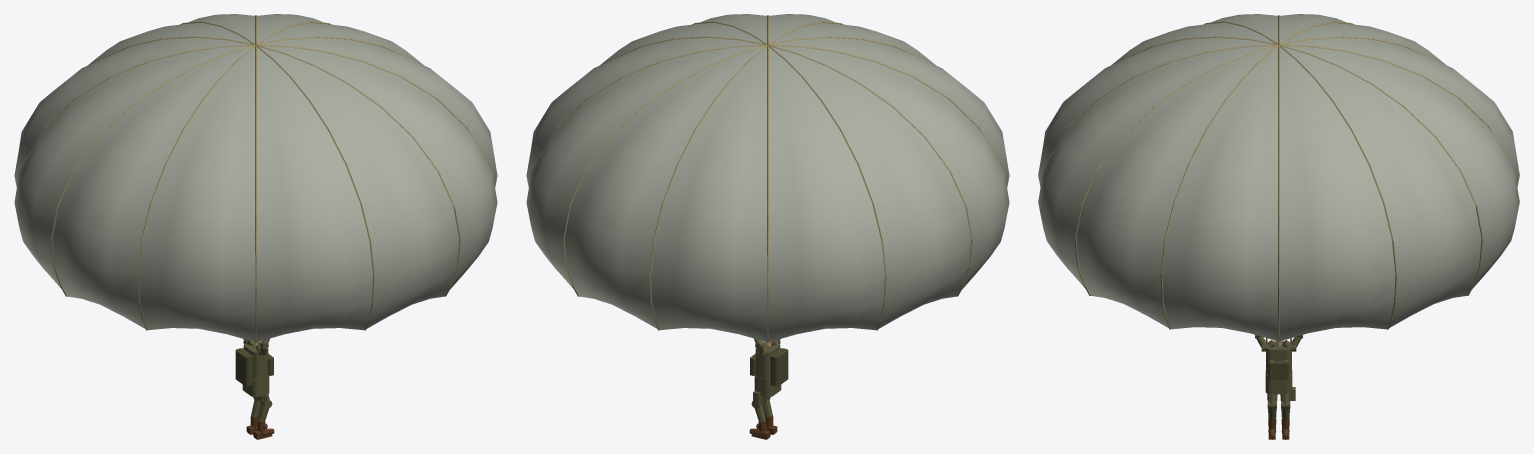
File: parachuting-person-rig.glb
3 views of the same model, side by side, from view 1: azimuth 30°, elevation 25°; view 2: azimuth 150°, elevation 25°; view 3: azimuth 270°, elevation 25° (orthographic).
Visible parts, largest first — view 1: CanopyOpen, CanopyRibs, Person, CanopyClosed; view 2: CanopyOpen, CanopyRibs, Person, CanopyClosed; view 3: CanopyOpen, CanopyRibs, Person.
Part boxes in pixels (left/top/right/bottom): CanopyOpen: left=14, top=14, right=497, bottom=341; CanopyRibs: left=26, top=15, right=485, bottom=342; Person: left=242, top=338, right=272, bottom=421; CanopyClosed: left=235, top=348, right=273, bottom=386; CanopyOpen: left=526, top=14, right=1009, bottom=341; CanopyRibs: left=538, top=15, right=997, bottom=342; Person: left=751, top=338, right=781, bottom=421; CanopyClosed: left=750, top=348, right=788, bottom=386; CanopyOpen: left=1038, top=14, right=1519, bottom=341; CanopyRibs: left=1049, top=15, right=1508, bottom=341; Person: left=1255, top=335, right=1302, bottom=420.
Size of the model in its own units: 7.92 by 7.06 by 7.92.
1 material, 1 textured.
